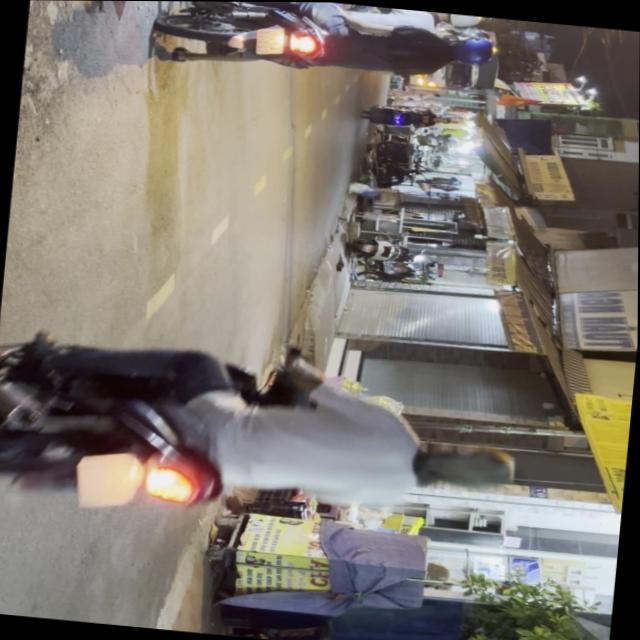helmet: (446, 37, 494, 69), (437, 12, 482, 30)
licenseplate: (0, 325, 527, 550), (150, 1, 501, 97)
motorcyclist: (415, 441, 517, 498)
nohelmet: (76, 451, 139, 511), (255, 27, 285, 56)
